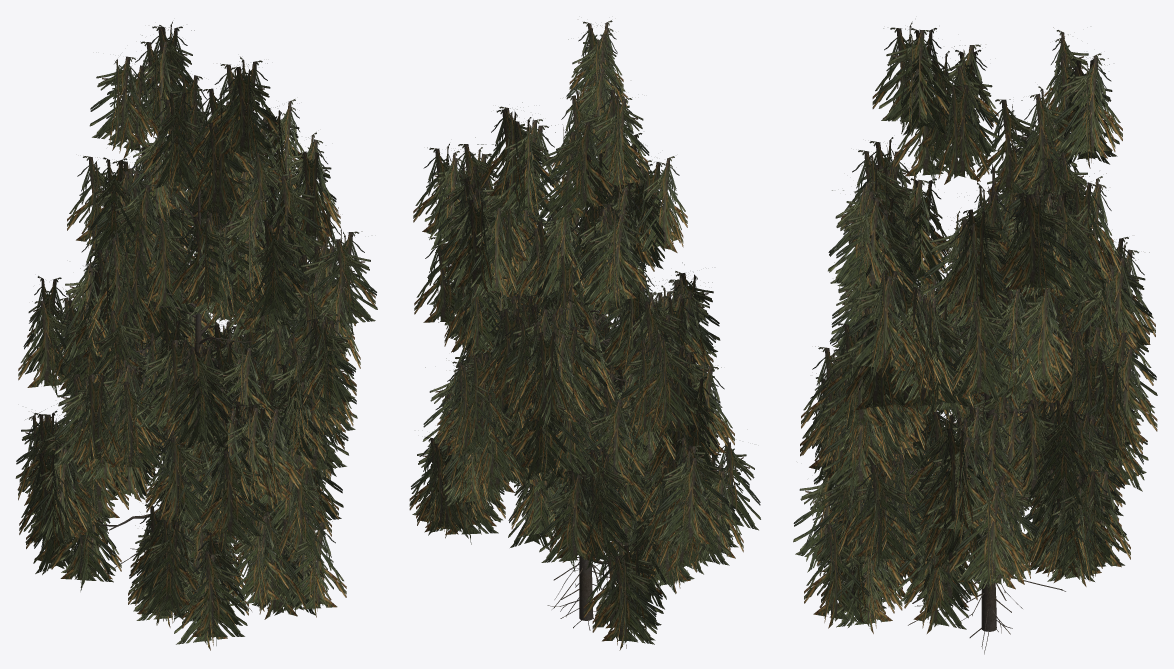
The model's file is pine.glb.
3 views of the same model, side by side, from view 1: azimuth 30°, elevation 25°; view 2: azimuth 150°, elevation 25°; view 3: azimuth 270°, elevation 25° (orthographic). The views are drawn at different scales.
Visible parts, largest first — view 1: pine_sapling_medium_c_LOD0; view 2: pine_sapling_medium_c_LOD0; view 3: pine_sapling_medium_c_LOD0.
Boxes of the visible parts, x1=… form: pine_sapling_medium_c_LOD0: x1=15, y1=21, x2=377, y2=650; pine_sapling_medium_c_LOD0: x1=409, y1=20, x2=760, y2=650; pine_sapling_medium_c_LOD0: x1=793, y1=21, x2=1157, y2=654.
Size of the model in its own units: 4.07 by 7 by 3.71.
3 materials, 3 textured.
